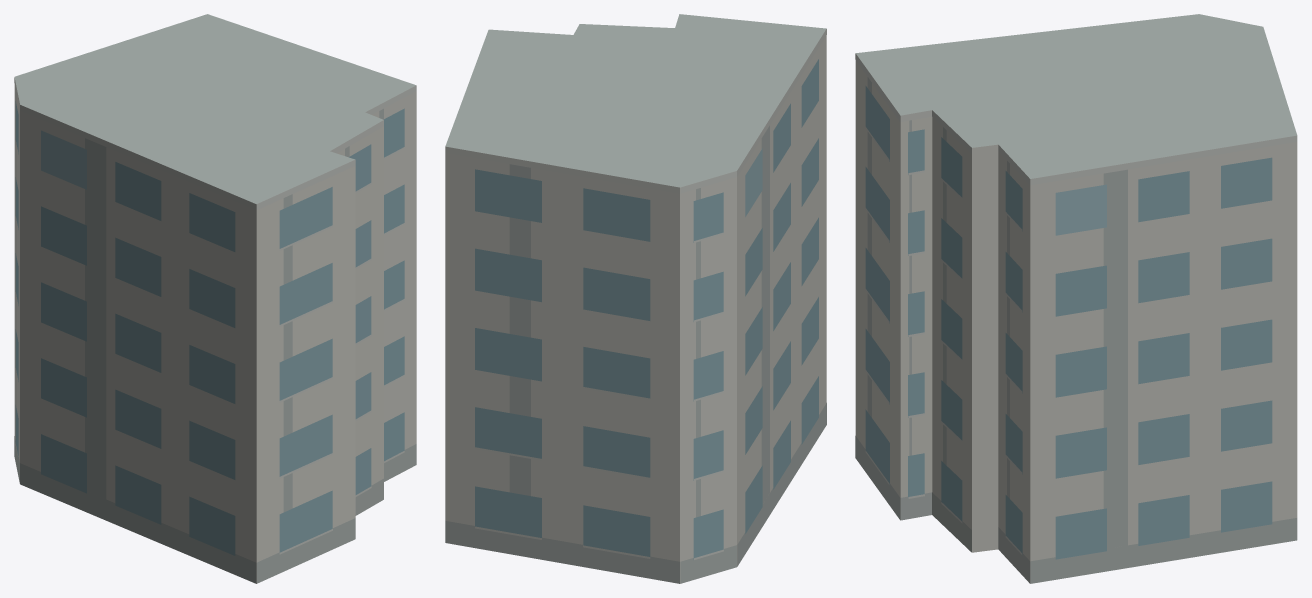
The model's file is survey-upis-32724573.glb.
The picture shows the model from 3 angles, left to right: view 1: azimuth 30°, elevation 25°; view 2: azimuth 150°, elevation 25°; view 3: azimuth 270°, elevation 25°; orthographic projection. The views are drawn at different scales.
Visible parts, largest first — view 1: survey-upis-32724573.tmp; view 2: survey-upis-32724573.tmp; view 3: survey-upis-32724573.tmp.
Boxes of the visible parts, x1=… form: survey-upis-32724573.tmp: x1=14, y1=14, x2=416, y2=583; survey-upis-32724573.tmp: x1=445, y1=14, x2=826, y2=583; survey-upis-32724573.tmp: x1=855, y1=14, x2=1297, y2=583.
Size of the model in its own units: 13.34 by 15.25 by 15.1.
